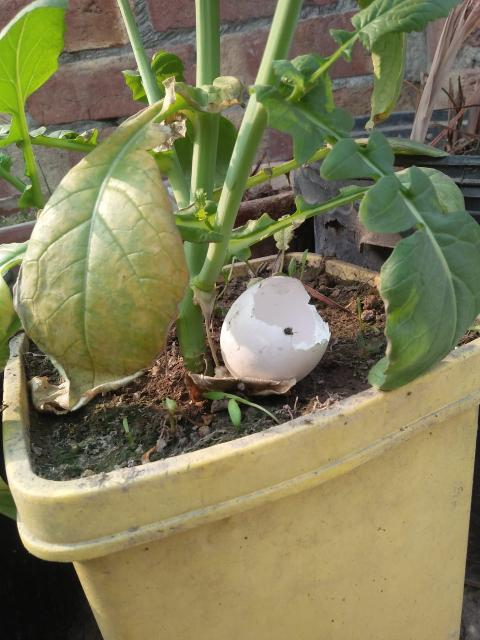Roto: (219, 274, 331, 387)
